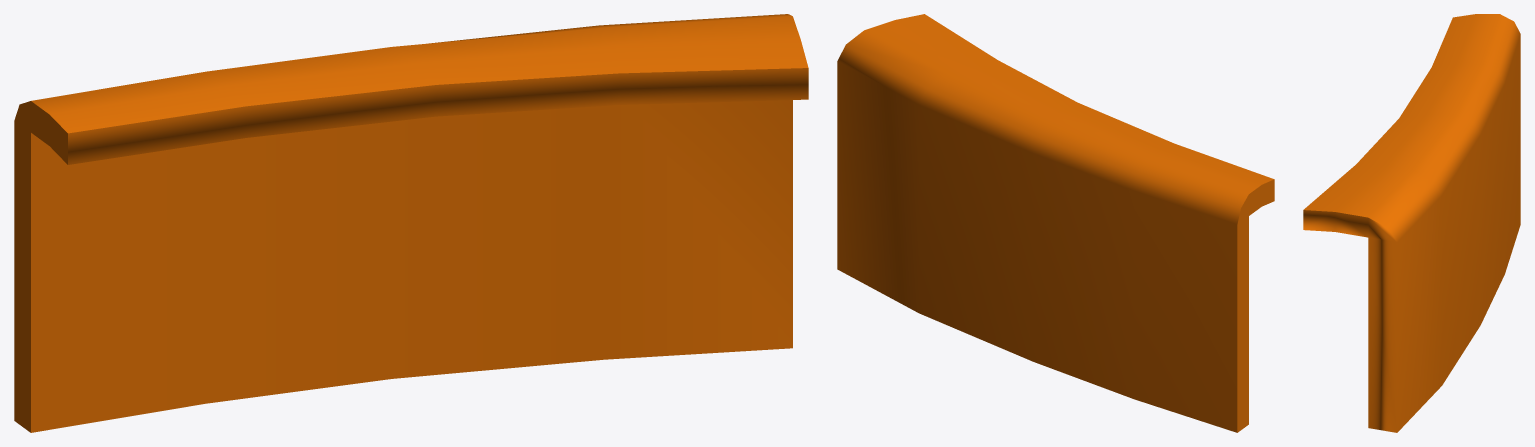
File: Plastic_Pipe_Entry_Left.fbx
3 views of the same model, side by side, from view 1: azimuth 30°, elevation 25°; view 2: azimuth 150°, elevation 25°; view 3: azimuth 270°, elevation 25° (orthographic). The views are drawn at different scales.
Parts seen in each view (by area): view 1: Plastic_Pipe_Entry_Left; view 2: Plastic_Pipe_Entry_Left; view 3: Plastic_Pipe_Entry_Left.
Part boxes in pixels (box(x1,y1,x2,y2)): Plastic_Pipe_Entry_Left: box(14, 14, 808, 432); Plastic_Pipe_Entry_Left: box(837, 14, 1274, 432); Plastic_Pipe_Entry_Left: box(1303, 14, 1520, 432).
Bounding box in the file's own units: 5.24 × 2.47 × 2.31.
